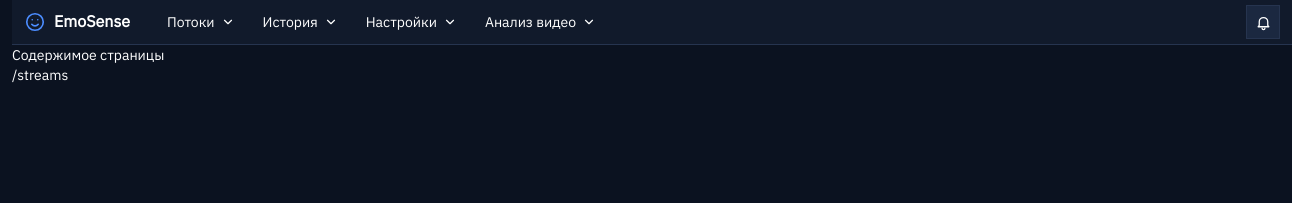
Test: Toolbar menus › switches to another menu when its button is clicked
What coordinates should you click on to do the following:
click the button "Потоки"
I would click on:
 (201, 22)
Its box is [154,4,248,40].
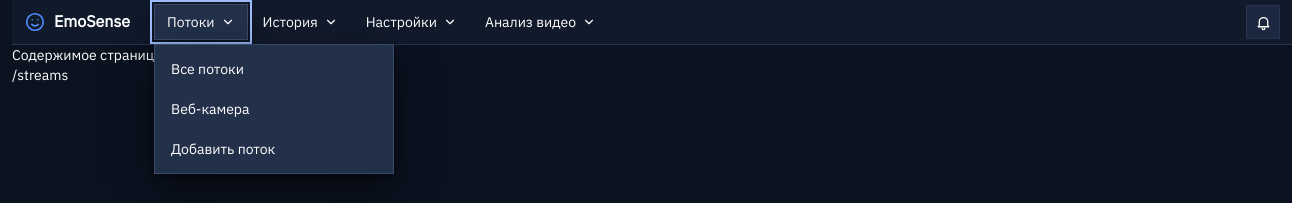
What coordinates should you click on to do the following:
click the button "История"
I would click on:
 (300, 22)
Its box is [250,4,351,40].
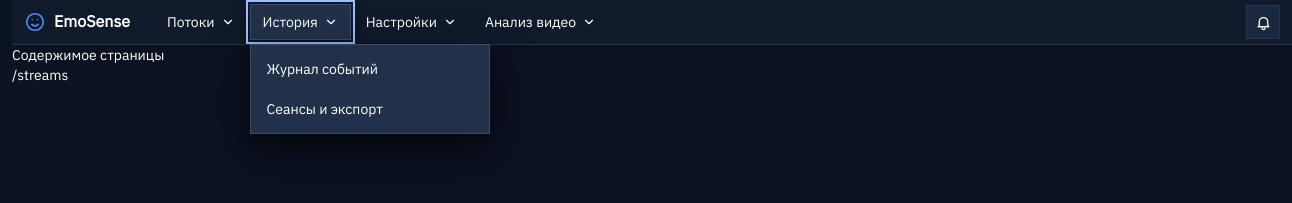
Expected: the number of menus is 1, [250,44,490,134]
Expected: the menu item "Журнал событий" is shown, [255,49,485,89]
Expected: the button "Потоки" is collapsed, [154,4,248,40]
